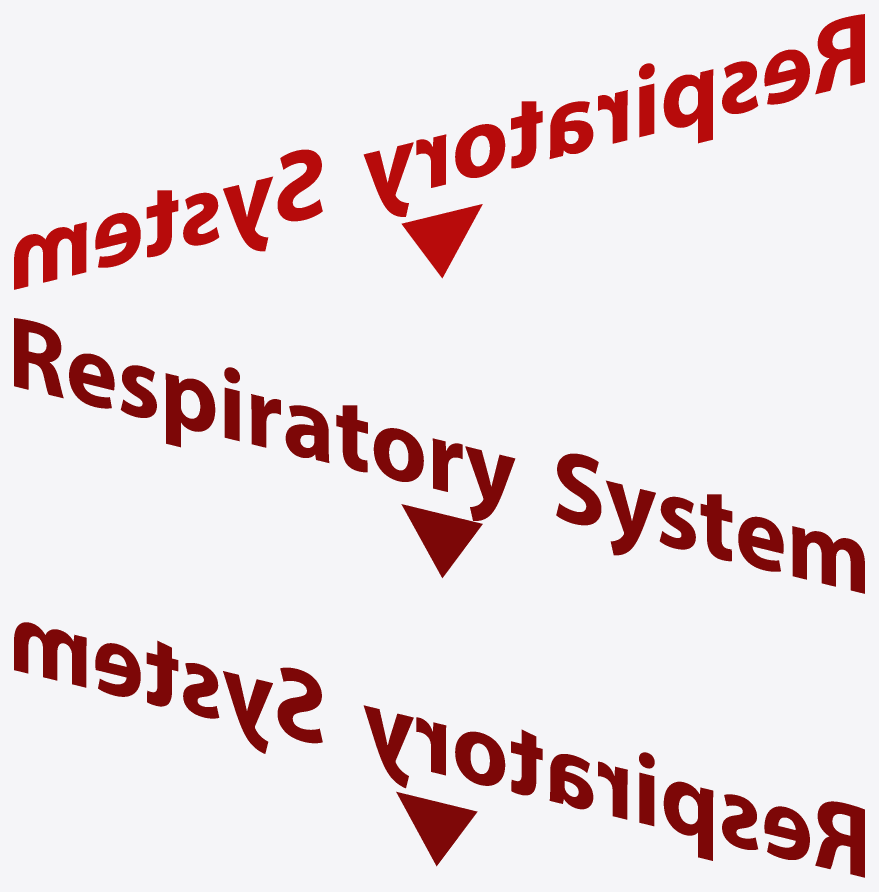
Rendered from Respiratory System FBX.FBX.
The picture shows the model from 3 angles, top to bottom: view 1: azimuth 30°, elevation 25°; view 2: azimuth 150°, elevation 25°; view 3: azimuth 330°, elevation 25°; orthographic projection.
Parts seen in each view (by area): view 1: Respiratory System_TXT, Arrow; view 2: Respiratory System_TXT, Arrow; view 3: Respiratory System_TXT, Arrow.
Boxes of the visible parts, x1,y1,x2,y2 form: Respiratory System_TXT: [14, 14, 864, 289]; Arrow: [401, 204, 482, 278]; Respiratory System_TXT: [14, 318, 864, 593]; Arrow: [401, 504, 482, 577]; Respiratory System_TXT: [14, 622, 864, 877]; Arrow: [396, 791, 477, 866].
Size of the model in its own units: 210 by 38.31 by 1.23.
